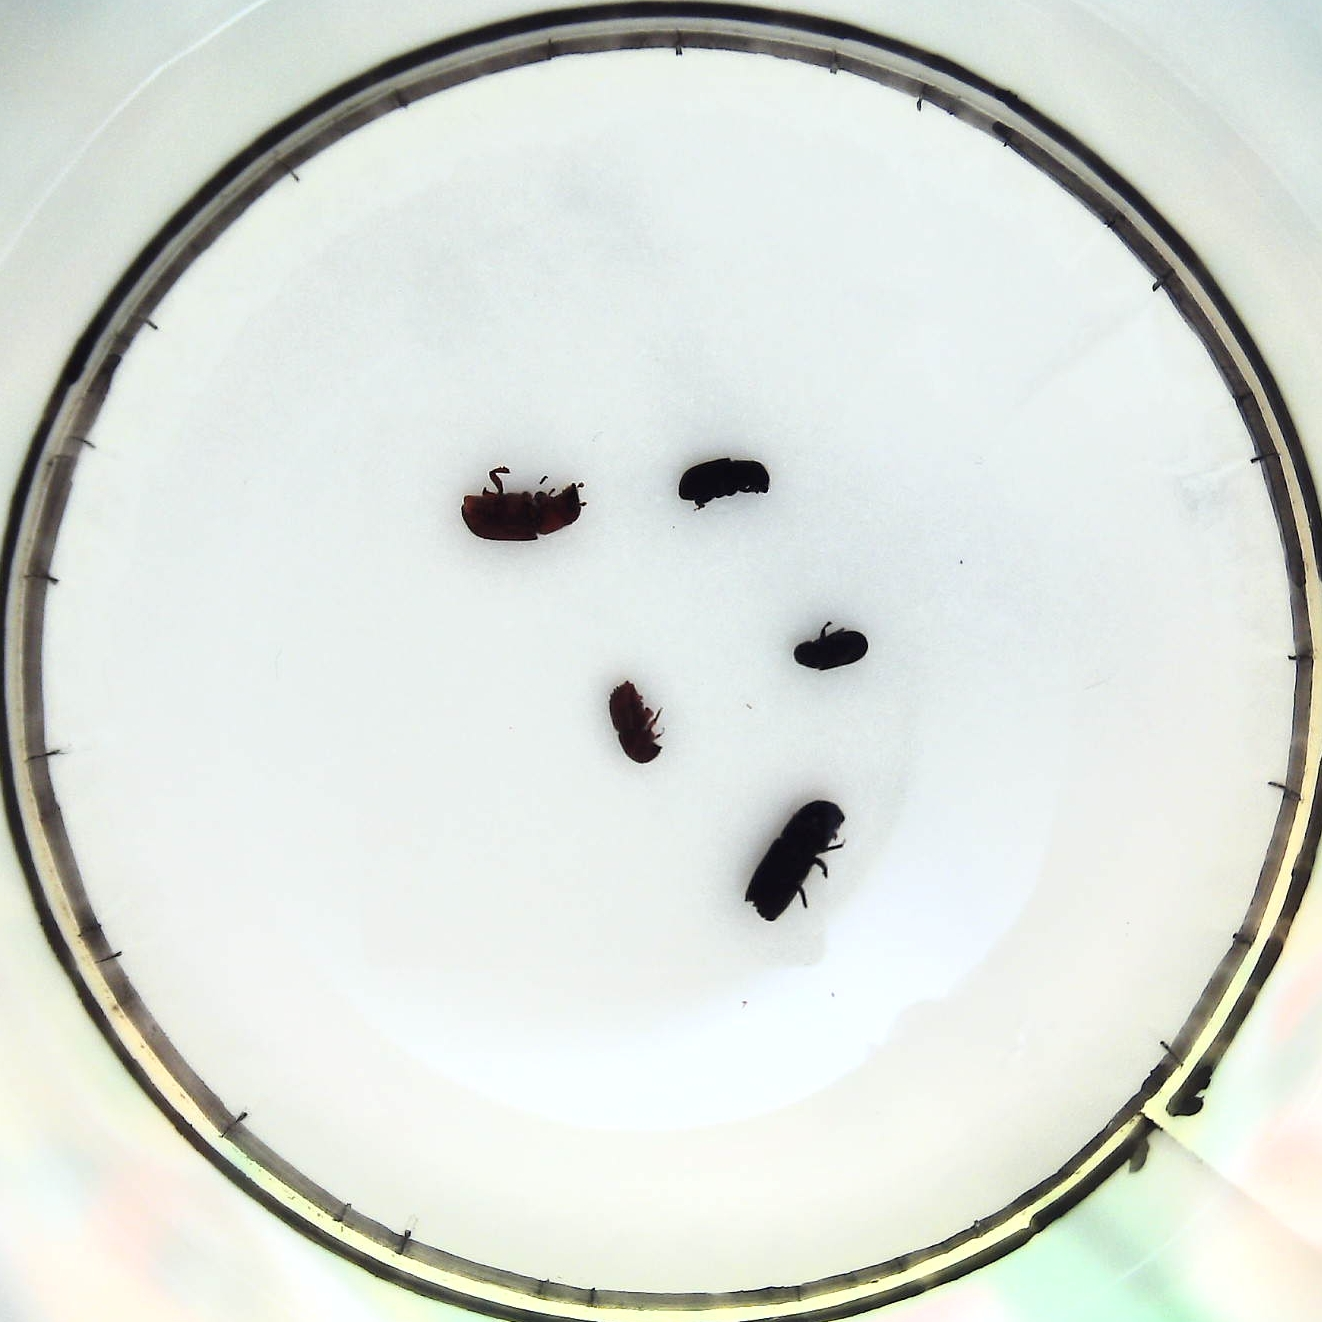Boerner: (746, 791, 853, 932)
Leconte: (453, 464, 587, 551)
armandi: (669, 454, 775, 515)
coleoptera: (787, 617, 878, 682)
linnaeus: (604, 678, 663, 768)
